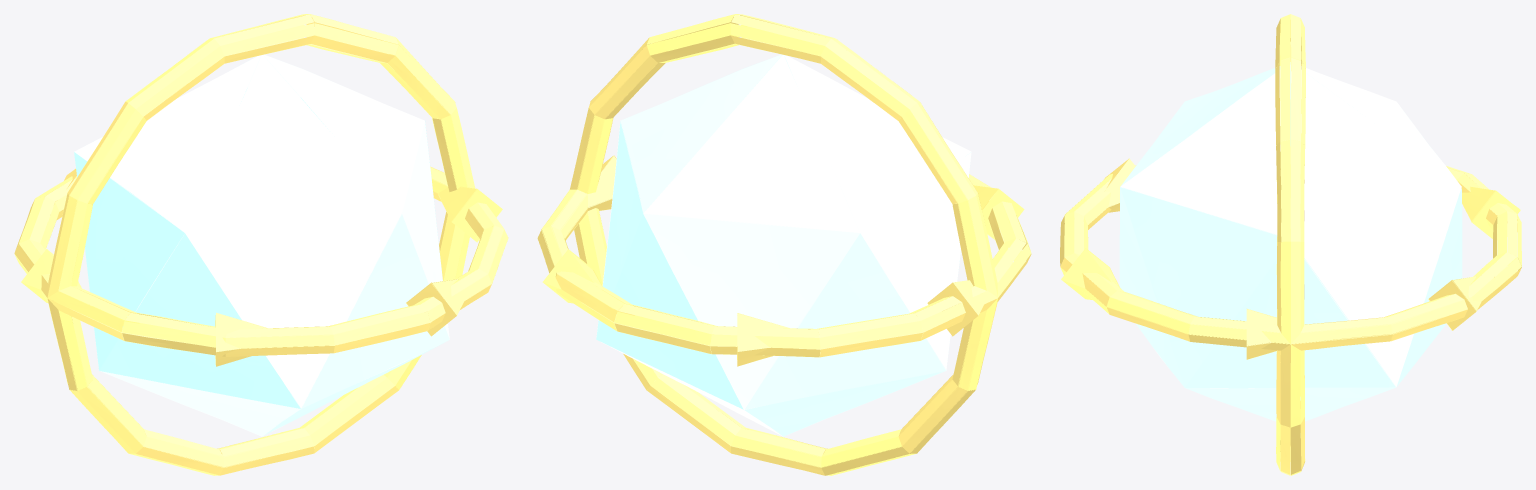
The model's file is orb_crystal.glb.
3 views of the same model, side by side, from view 1: azimuth 30°, elevation 25°; view 2: azimuth 150°, elevation 25°; view 3: azimuth 270°, elevation 25° (orthographic). The views are drawn at different scales.
Visible parts, largest first — view 1: PangCrystalCore; view 2: PangCrystalCore; view 3: PangCrystalCore.
Boxes of the visible parts, box(x1,y1,x2,y2) form: PangCrystalCore: box(14, 14, 508, 475); PangCrystalCore: box(537, 14, 1031, 475); PangCrystalCore: box(1060, 14, 1521, 475).
Size of the model in its own units: 1.86 by 1.79 by 1.79.
